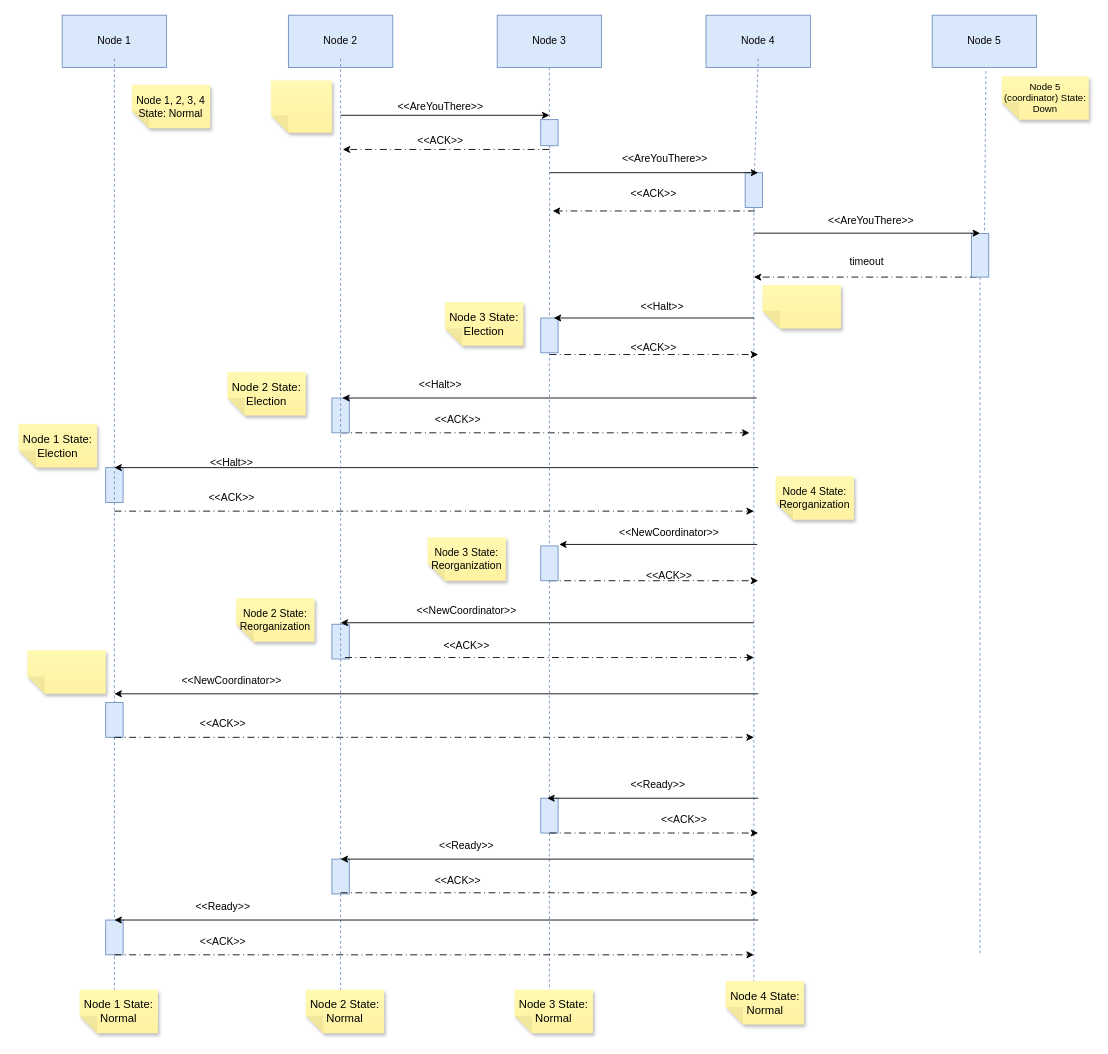
The diagram is 1108 pixels wide and 1054 high, and some of its shapes have lost their labels. The centre of each missing label's shape, as x and y in pixels:
Coordinator gone: Election(2): pixel 302 107
Node 1 State: Reorganization: pixel 66 672
Node 4 State: Election: pixel 802 307
